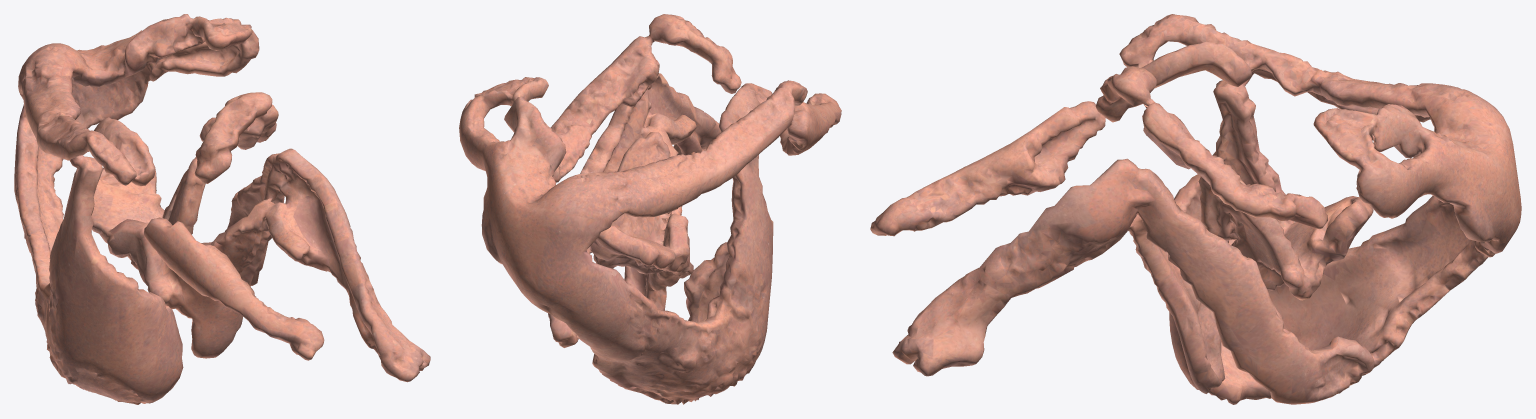
The model's file is Quartz.glb.
The picture shows the model from 3 angles, left to right: view 1: azimuth 30°, elevation 25°; view 2: azimuth 150°, elevation 25°; view 3: azimuth 270°, elevation 25°; orthographic projection. The views are drawn at different scales.
Visible parts, largest first — view 1: partgrowth1; view 2: partgrowth1; view 3: partgrowth1.
Boxes of the visible parts, <box> form: partgrowth1: <box>14,14,430,404</box>; partgrowth1: <box>459,14,841,404</box>; partgrowth1: <box>870,14,1521,404</box>.
Bounding box in the file's own units: 2.37 × 2.79 × 4.44.
Materials: 1 (1 with a texture image).
